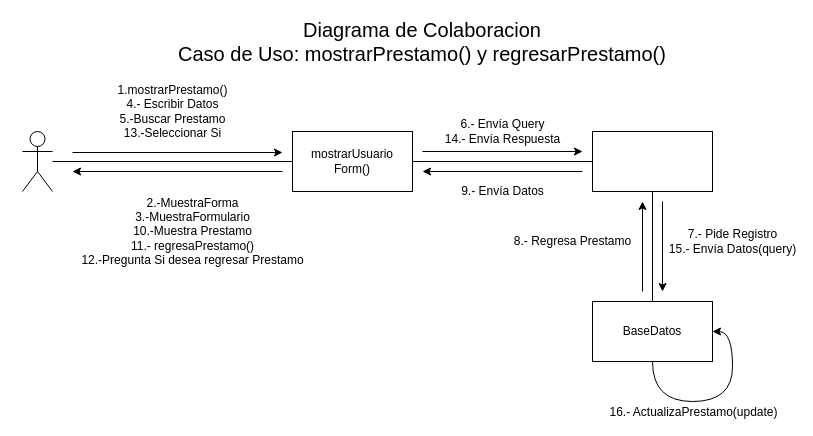
The diagram is 813 pixels wide and 436 high, and some of its shapes have lost their labels. The shapes that lost their labels are listed below. From the top down, each one's box as (x1, y1, x2, y2) in pixels, then its label:
(22, 130, 52, 192): Usuario
(592, 130, 712, 192): ClasePrestamo
